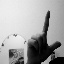l: (26, 10, 62, 58)
